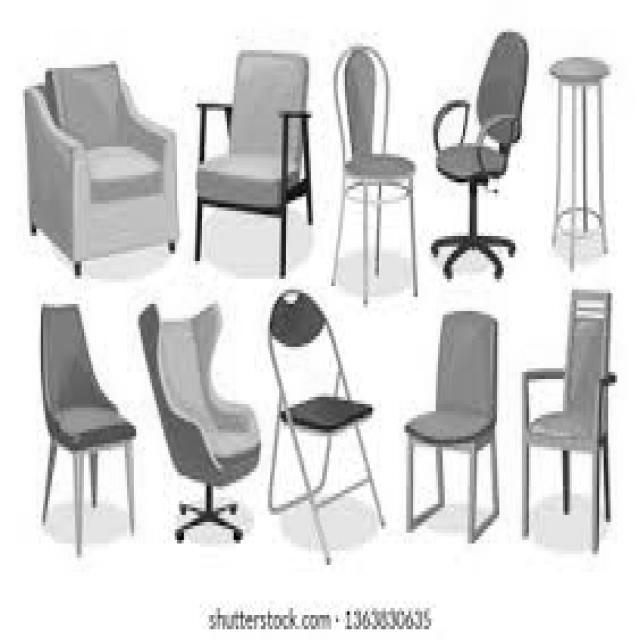chair: (264, 286, 390, 570), (16, 61, 182, 274), (132, 302, 263, 547), (192, 47, 318, 280), (516, 286, 618, 554), (34, 300, 138, 560), (429, 30, 530, 286), (330, 42, 421, 311), (402, 304, 503, 544), (546, 53, 614, 270)
